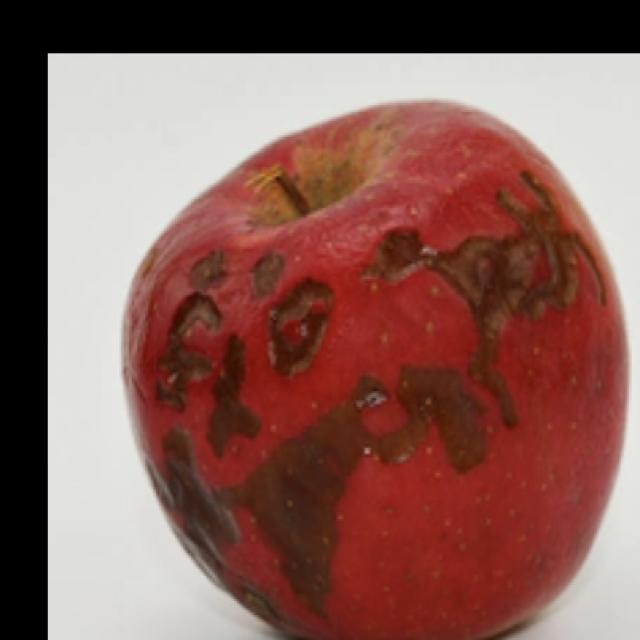Rotten: (120, 96, 640, 640)
